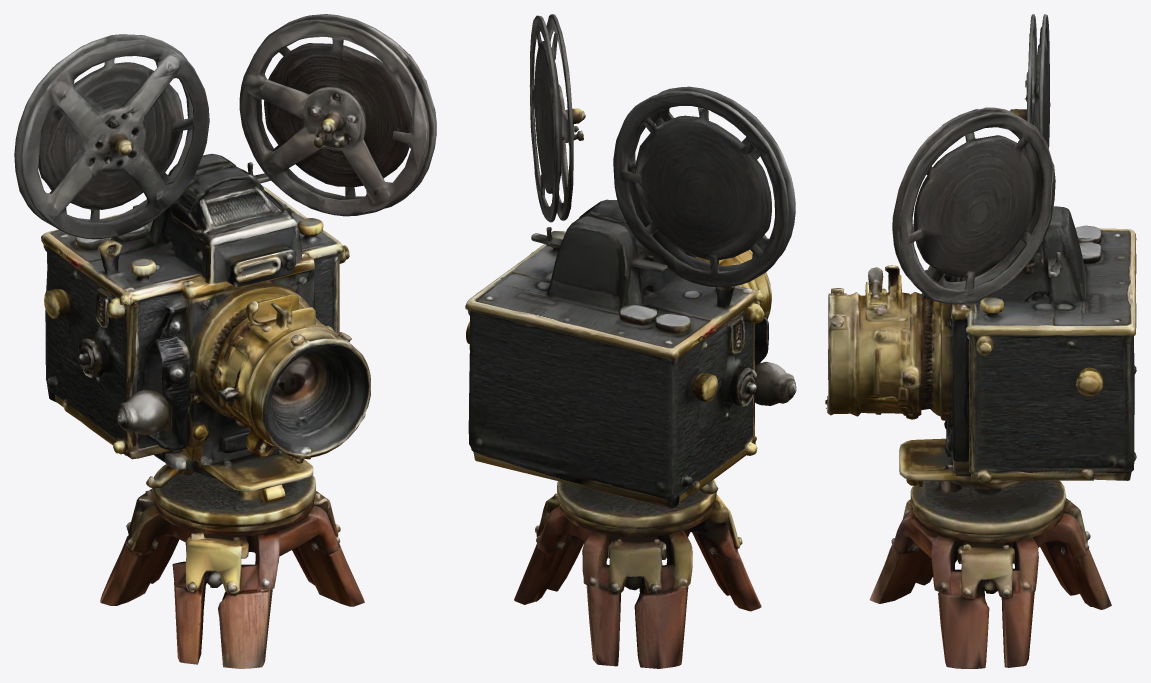
File: film-camera.glb
The picture shows the model from 3 angles, left to right: view 1: azimuth 30°, elevation 25°; view 2: azimuth 150°, elevation 25°; view 3: azimuth 270°, elevation 25°; orthographic projection. The views are drawn at different scales.
Visible parts, largest first — view 1: node_6bb78c32-da75-4f93-a20e-fd0a243c18f5; view 2: node_6bb78c32-da75-4f93-a20e-fd0a243c18f5; view 3: node_6bb78c32-da75-4f93-a20e-fd0a243c18f5.
Boxes of the visible parts, x1,y1,x2,y2 form: node_6bb78c32-da75-4f93-a20e-fd0a243c18f5: [14, 14, 436, 668]; node_6bb78c32-da75-4f93-a20e-fd0a243c18f5: [465, 14, 796, 668]; node_6bb78c32-da75-4f93-a20e-fd0a243c18f5: [825, 14, 1136, 668].
Bounding box in the file's own units: 0.6076 × 0.9787 × 0.5021.
Materials: 1 (1 with a texture image).
